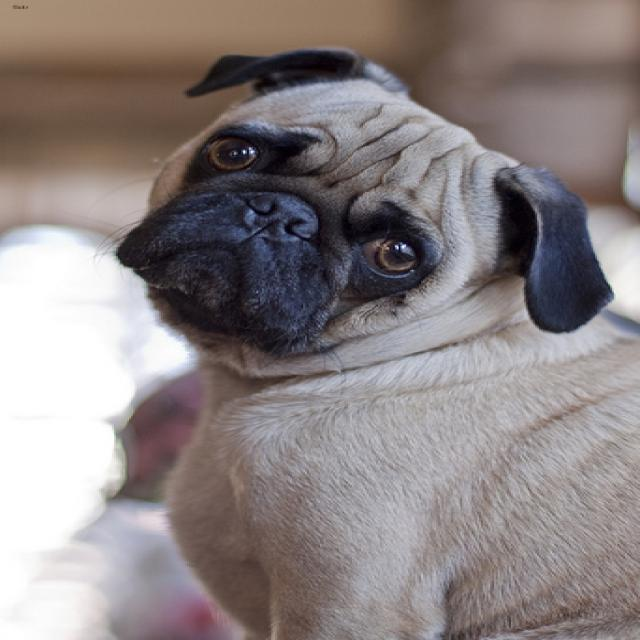dog-pug: (88, 32, 636, 637)
